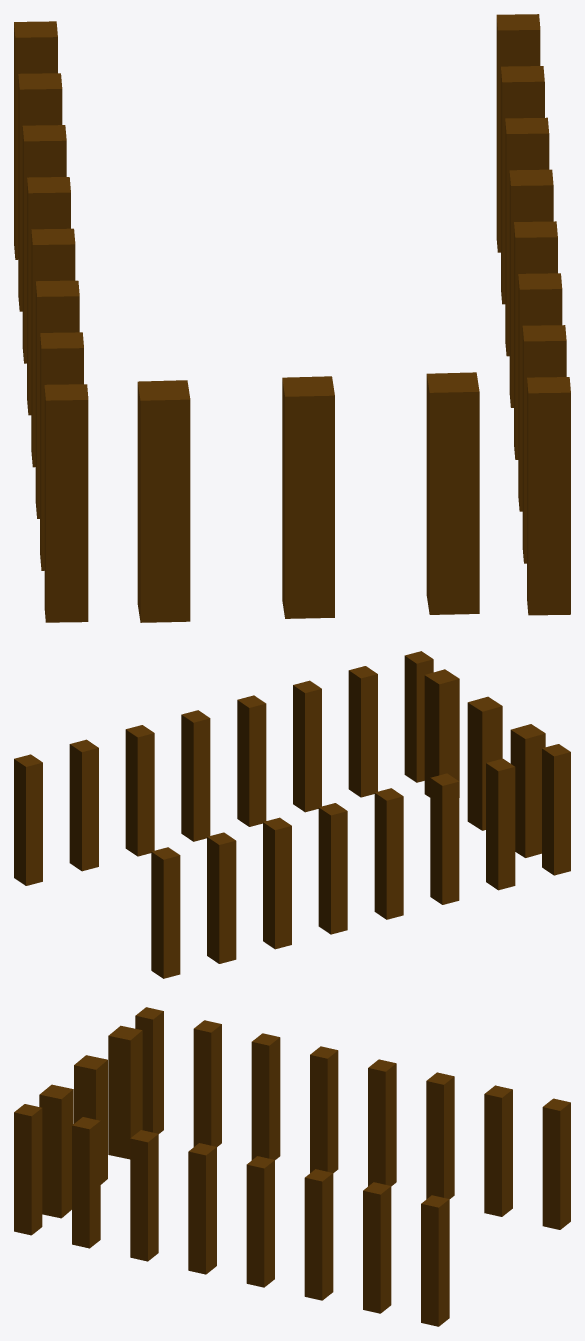
The model's file is Fence.fbx.
3 renders of one model, top to bottom at view 1: azimuth 30°, elevation 25°; view 2: azimuth 150°, elevation 25°; view 3: azimuth 270°, elevation 25°, orthographic. The views are drawn at different scales.
Visible parts, largest first — view 1: Cube.008; view 2: Cube.008; view 3: Cube.008.
Part boxes in pixels (bbox=[...]): Cube.008: bbox=[14, 14, 570, 622]; Cube.008: bbox=[14, 651, 570, 978]; Cube.008: bbox=[14, 1007, 570, 1326].
Bounding box in the file's own units: 722 × 200 × 847.
